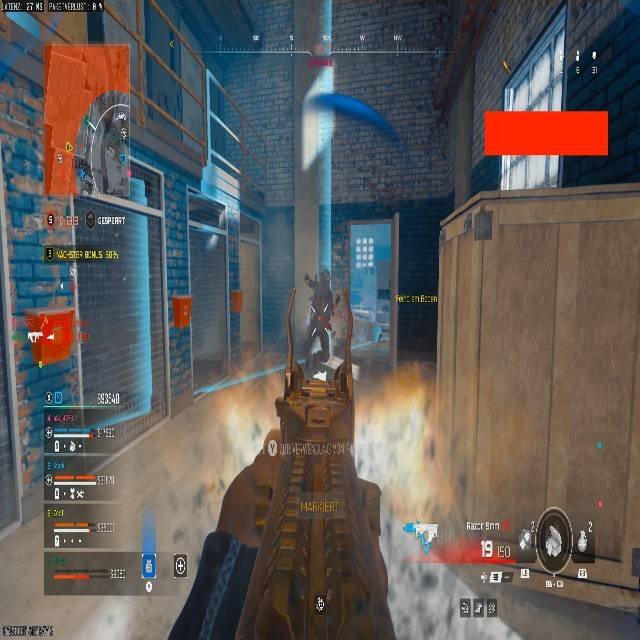player: (302, 270, 341, 368)
